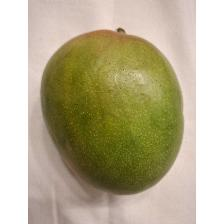Mango: (37, 24, 189, 198)
